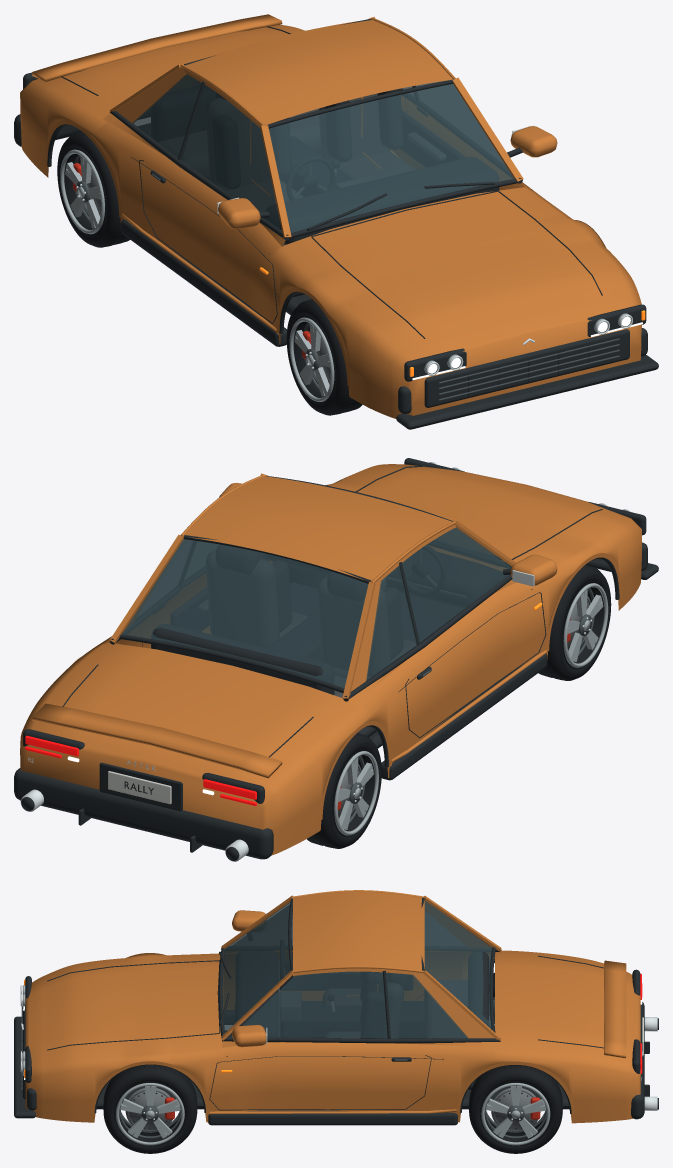
The model's file is aster_rs.glb.
The picture shows the model from 3 angles, top to bottom: view 1: azimuth 30°, elevation 25°; view 2: azimuth 150°, elevation 25°; view 3: azimuth 270°, elevation 25°; orthographic projection. The views are drawn at different scales.
Visible parts, largest first — view 1: BodyStatic, GlassPanels, InteriorAssembly, WheelRearLGeometry, WheelFrontLGeometry; view 2: BodyStatic, GlassPanels, InteriorAssembly, WheelFrontLGeometry, WheelRearLGeometry; view 3: BodyStatic, GlassPanels, InteriorAssembly, WheelFrontRGeometry, WheelRearRGeometry.
Boxes of the visible parts, left/top/right/bottom form: BodyStatic: left=14, top=14, right=658, bottom=429; GlassPanels: left=132, top=74, right=514, bottom=233; InteriorAssembly: left=151, top=86, right=499, bottom=297; WheelRearLGeometry: left=57, top=131, right=129, bottom=247; WheelFrontLGeometry: left=286, top=299, right=362, bottom=415; BodyStatic: left=14, top=458, right=658, bottom=861; GlassPanels: left=122, top=527, right=511, bottom=688; InteriorAssembly: left=151, top=545, right=498, bottom=736; WheelFrontLGeometry: left=538, top=564, right=611, bottom=680; WheelRearLGeometry: left=307, top=733, right=381, bottom=848; BodyStatic: left=14, top=890, right=658, bottom=1125; GlassPanels: left=222, top=901, right=491, bottom=1038; InteriorAssembly: left=235, top=940, right=489, bottom=1089; WheelFrontRGeometry: left=103, top=1065, right=197, bottom=1153; WheelRearRGeometry: left=468, top=1065, right=562, bottom=1153.
Bounding box in the file's own units: 2.18 × 1.42 × 4.66.
